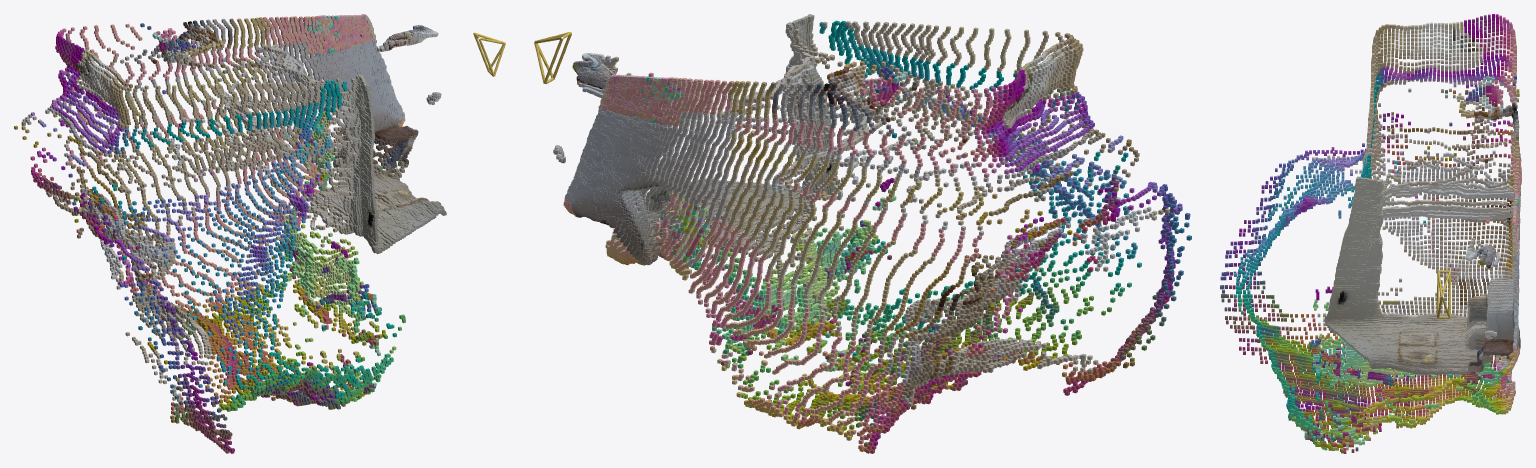
The model's file is pred_2-compressed.glb.
3 views of the same model, side by side, from view 1: azimuth 30°, elevation 25°; view 2: azimuth 150°, elevation 25°; view 3: azimuth 270°, elevation 25° (orthographic). The views are drawn at different scales.
Size of the model in its own units: 8.89 by 6.6 by 5.24.
